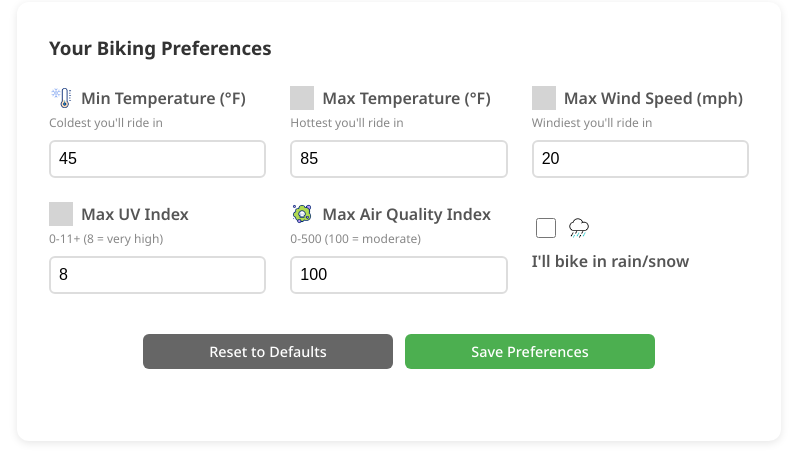
Test: BikePreferencesForm › Preference Storage › hides clear button after clearing preferences
This screenshot has width=799, height=461.
# Save preferences
Click the button "Save Preferences" at (530, 352), box [405,334,655,369]
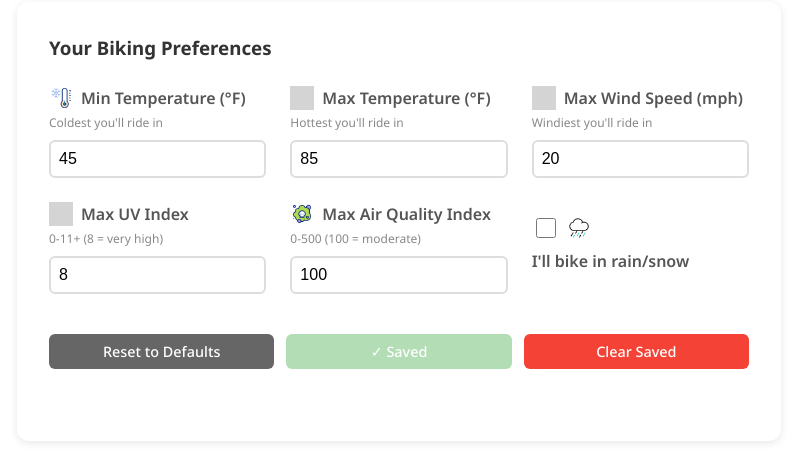
# Clear preferences
Click the button "Clear Saved" at (636, 352), box [524,334,749,369]
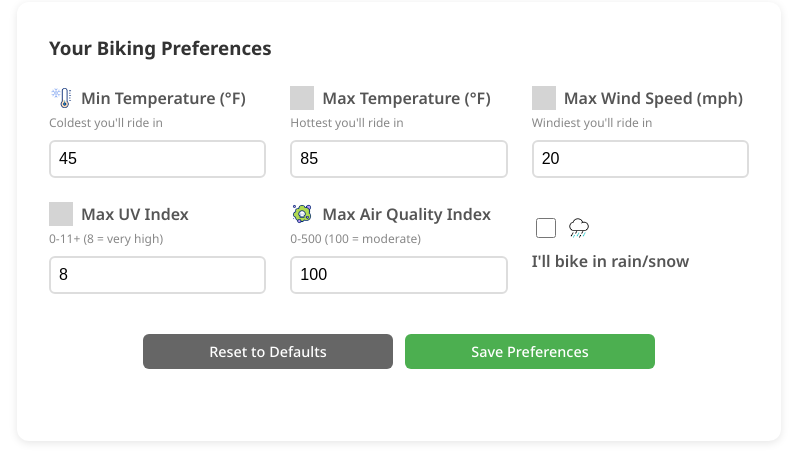
Now the button "Clear Saved" is gone
